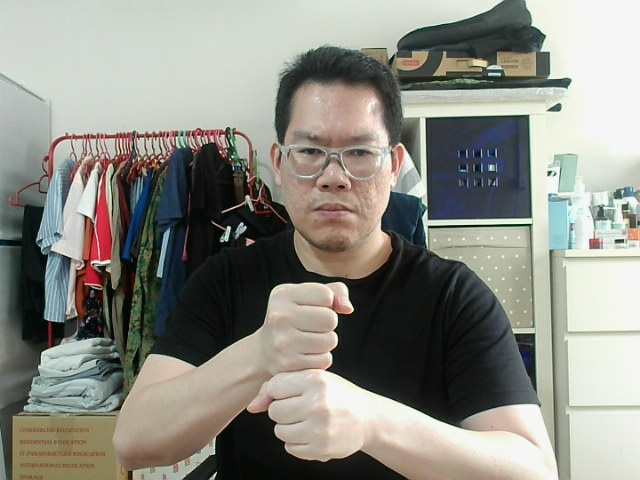get: (258, 287, 345, 364)
